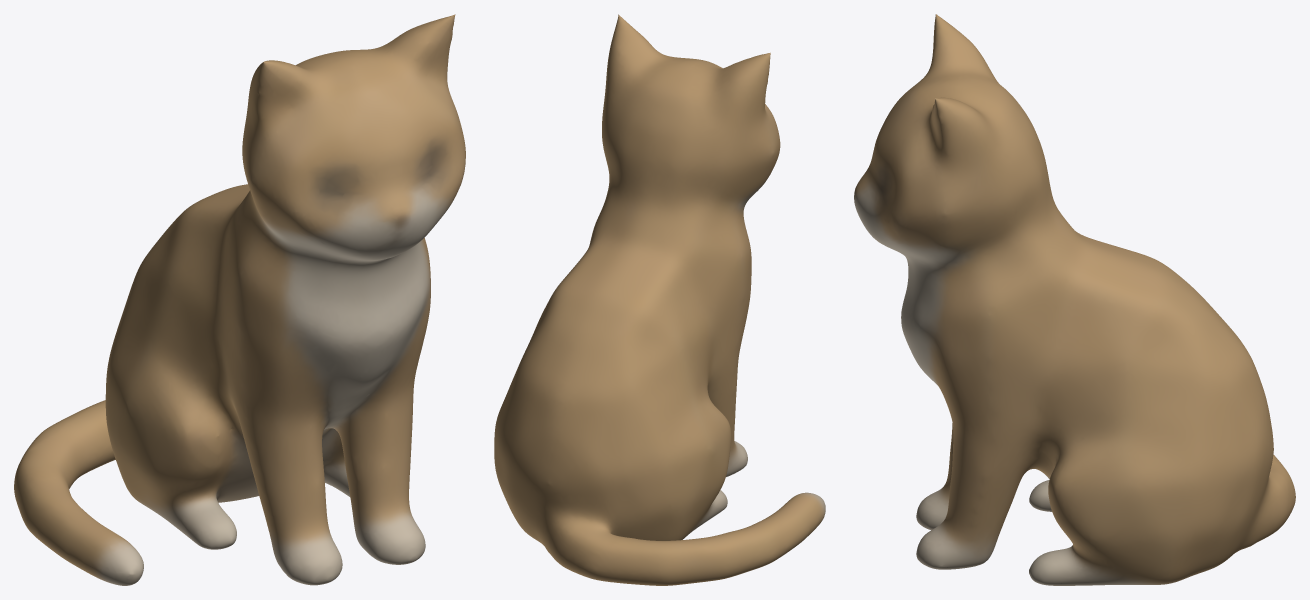
File: cat-hq.glb
3 renders of one model, left to right at view 1: azimuth 30°, elevation 25°; view 2: azimuth 150°, elevation 25°; view 3: azimuth 270°, elevation 25°, orthographic. The views are drawn at different scales.
Parts seen in each view (by area): view 1: CatHQ; view 2: CatHQ; view 3: CatHQ.
Part boxes in pixels (x1,y1,x2,y2): CatHQ: (14, 14, 465, 585); CatHQ: (494, 14, 825, 585); CatHQ: (854, 14, 1295, 585).
Bounding box in the file's own units: 1.26 × 1.87 × 1.52.
